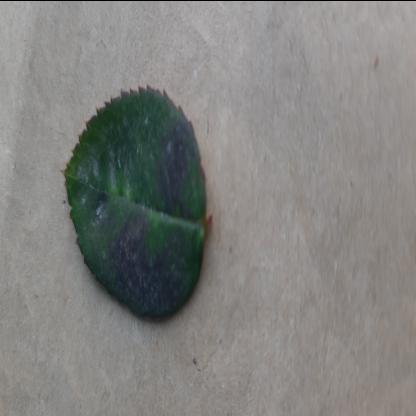downy-mildew: (63, 80, 209, 330)
